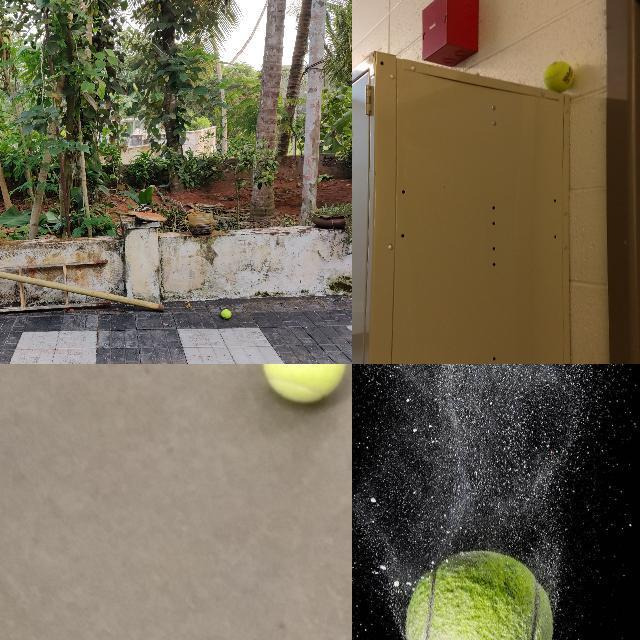tennis-ball: (404, 550, 555, 639), (263, 364, 348, 405), (542, 61, 574, 92), (221, 309, 232, 319)
